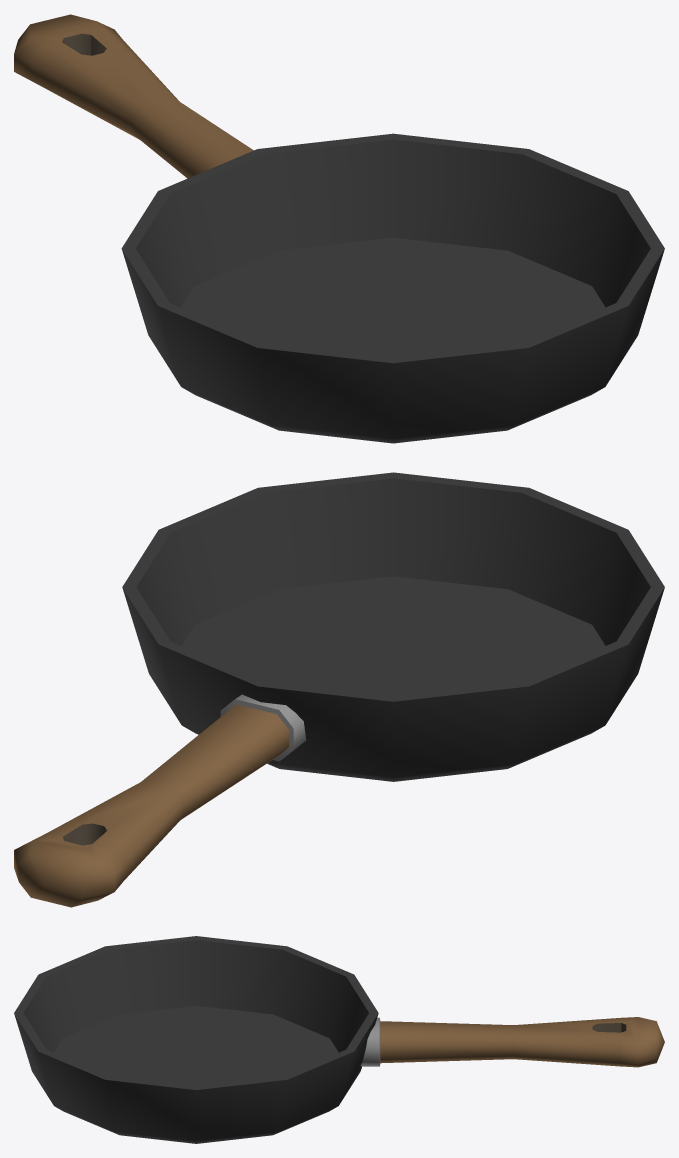
File: TrashSkovoroda.fbx
3 views of the same model, one above another, from view 1: azimuth 30°, elevation 25°; view 2: azimuth 150°, elevation 25°; view 3: azimuth 270°, elevation 25° (orthographic). The views are drawn at different scales.
Parts seen in each view (by area): view 1: Skovoroda; view 2: Skovoroda; view 3: Skovoroda.
Boxes of the visible parts, box(x1,y1,x2,y2) form: Skovoroda: box(14, 14, 664, 443); Skovoroda: box(14, 472, 664, 907); Skovoroda: box(14, 936, 664, 1143).
Bounding box in the file's own units: 0.4 × 0.08 × 0.714.
